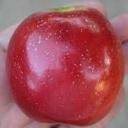apple: (6, 7, 125, 124)
